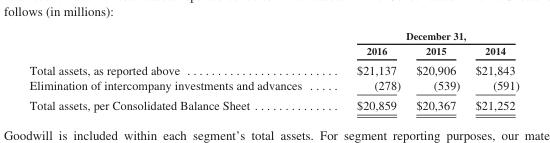table: (28, 29, 518, 111)
table column: (28, 29, 328, 111), (328, 29, 407, 111), (407, 29, 467, 111), (467, 29, 518, 111)
table column header: (28, 29, 518, 59)
table row: (28, 59, 518, 77), (28, 77, 518, 95), (28, 42, 518, 59), (28, 95, 518, 111), (28, 29, 518, 42)
table spanning cell: (328, 29, 518, 42)
